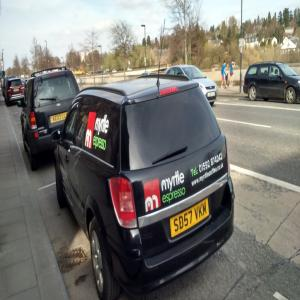Vehicle-registration-plate: (170, 197, 210, 237), (51, 112, 68, 125)
